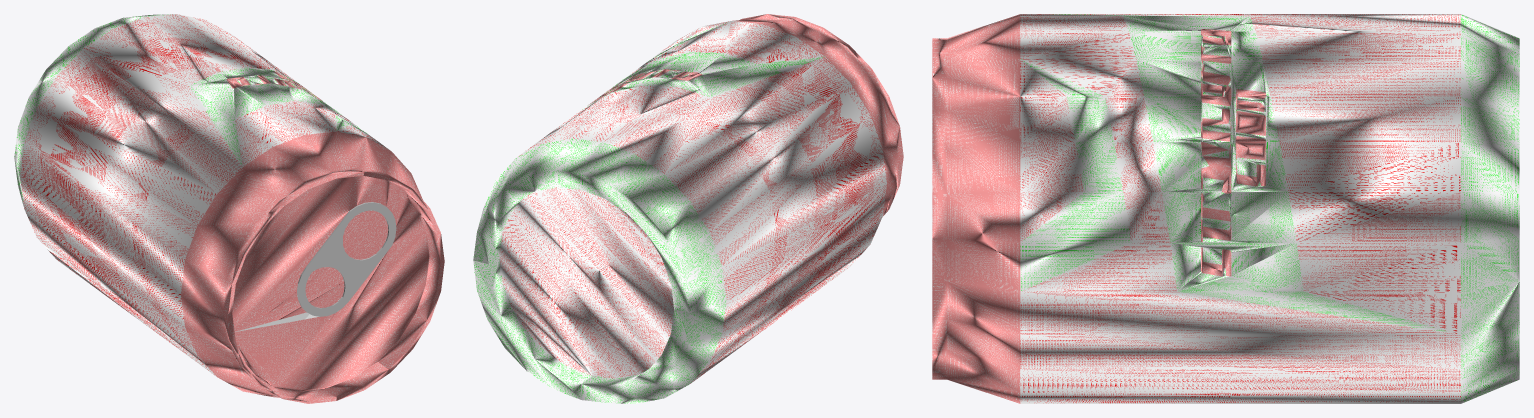
File: model_align.obj
3 renders of one model, left to right at view 1: azimuth 30°, elevation 25°; view 2: azimuth 150°, elevation 25°; view 3: azimuth 270°, elevation 25°, orthographic. The views are drawn at different scales.
Size of the model in its own units: 0.0705 by 0.0705 by 0.1057.
